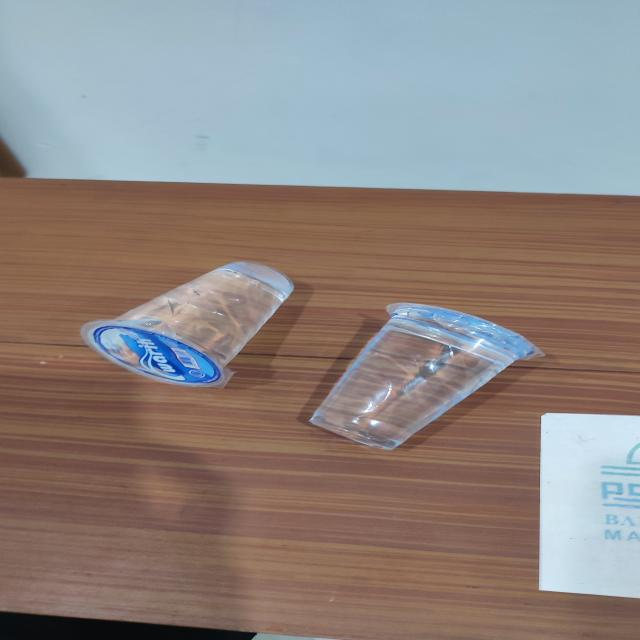air gelas: (300, 300, 550, 446), (72, 254, 305, 389)
